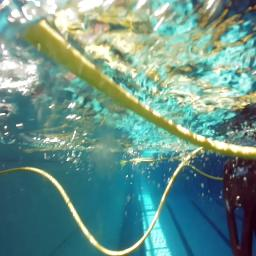Side: (220, 157, 256, 254)
